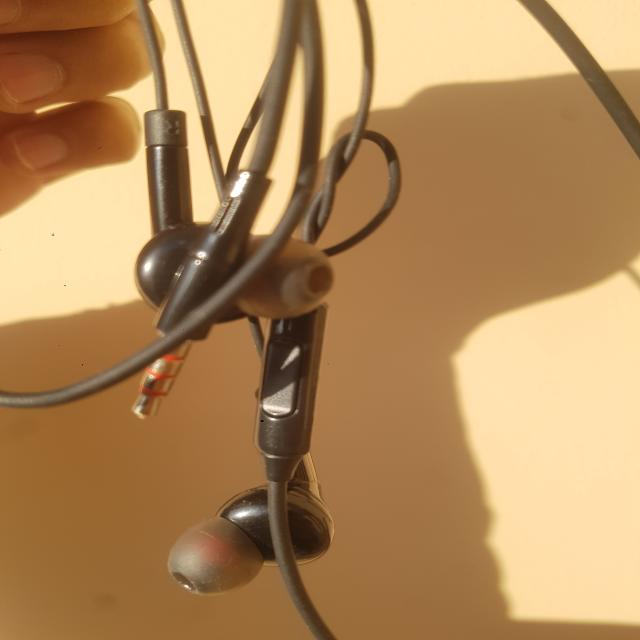electronic: (96, 53, 484, 640)
